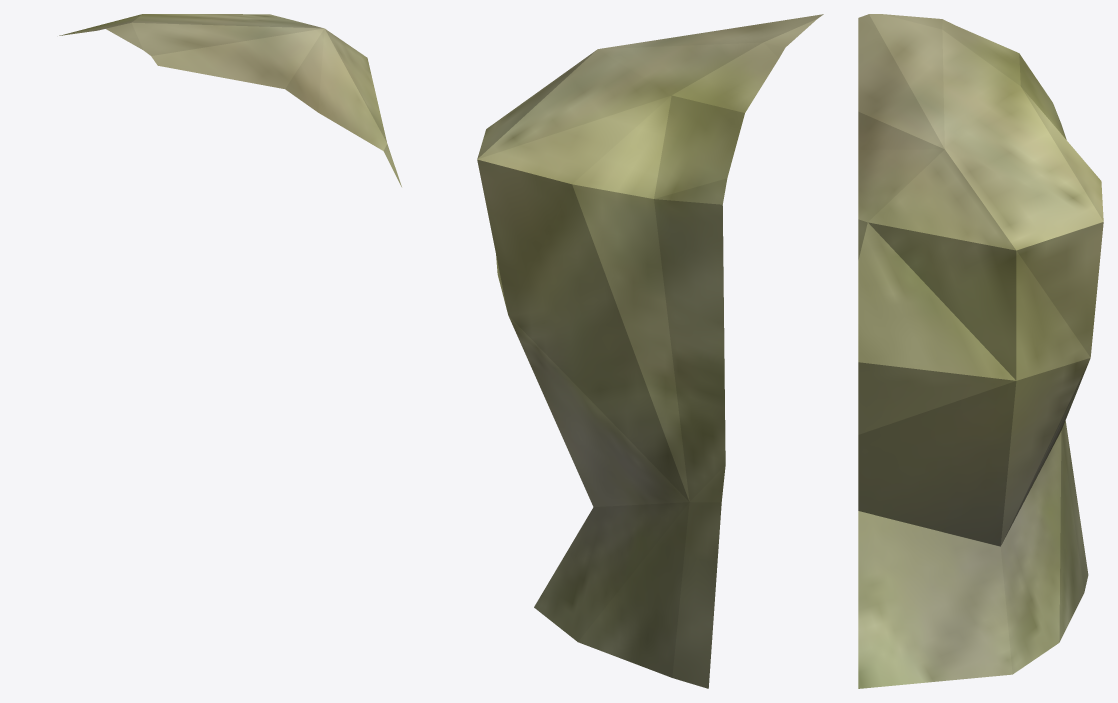
3 renders of one model, left to right at view 1: azimuth 30°, elevation 25°; view 2: azimuth 150°, elevation 25°; view 3: azimuth 270°, elevation 25°, orthographic. The views are drawn at different scales.
Bounding box in the file's own units: 0.2899 × 0.628 × 0.249.
1 material, 1 textured.
